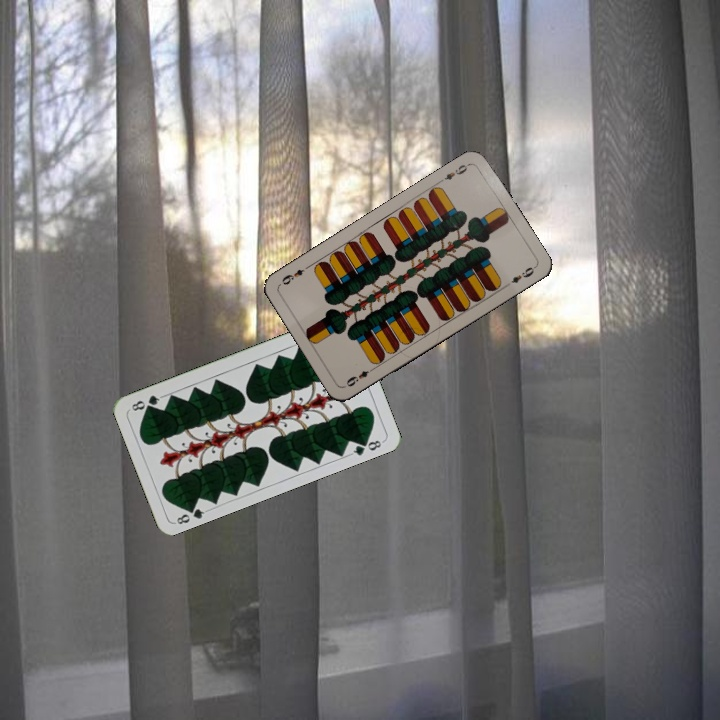E9: (341, 363, 378, 389), (435, 160, 472, 186)
G8: (171, 501, 210, 527)
